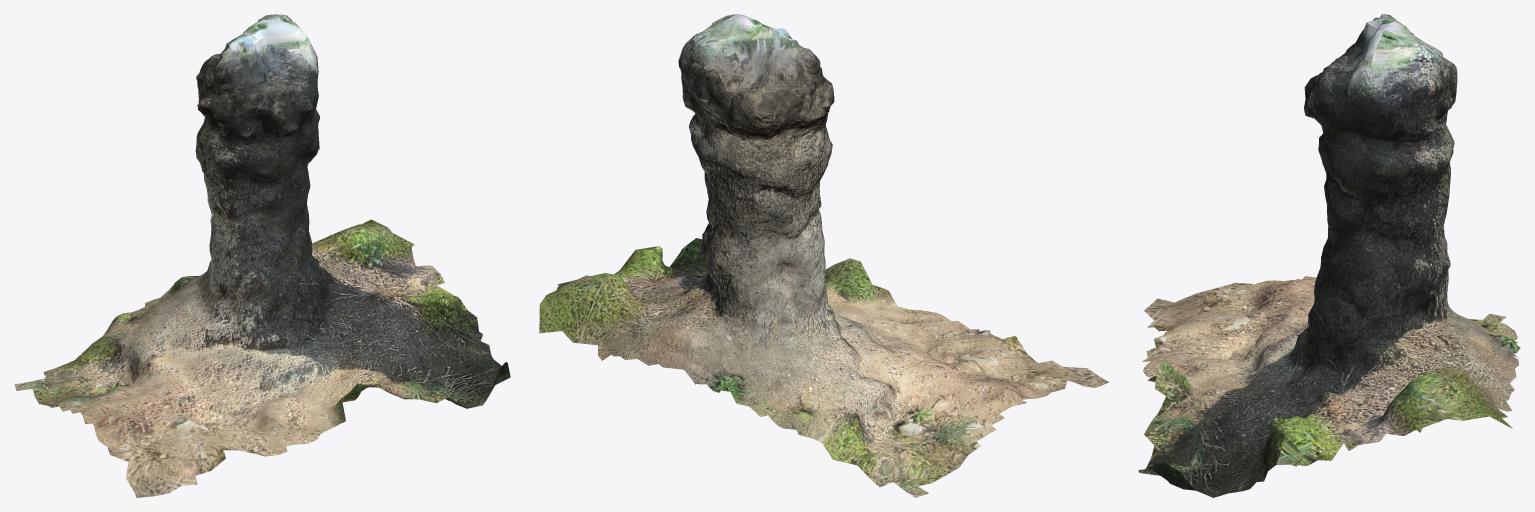
Rendered from palm-burned.glb.
3 views of the same model, side by side, from view 1: azimuth 30°, elevation 25°; view 2: azimuth 150°, elevation 25°; view 3: azimuth 270°, elevation 25° (orthographic). The views are drawn at different scales.
Visible parts, largest first — view 1: palm-burned-0; view 2: palm-burned-0; view 3: palm-burned-0.
Part boxes in pixels (x1,y1,x2,y2): palm-burned-0: (14, 14, 510, 497); palm-burned-0: (539, 14, 1108, 497); palm-burned-0: (1138, 14, 1520, 497).
Size of the model in its own units: 1.17 by 1 by 0.8458.
1 material, 1 textured.
